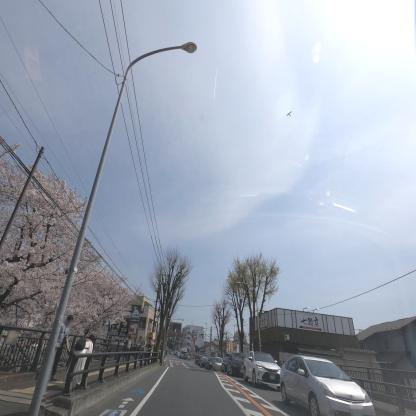Someiyoshino: (0, 160, 155, 340)
